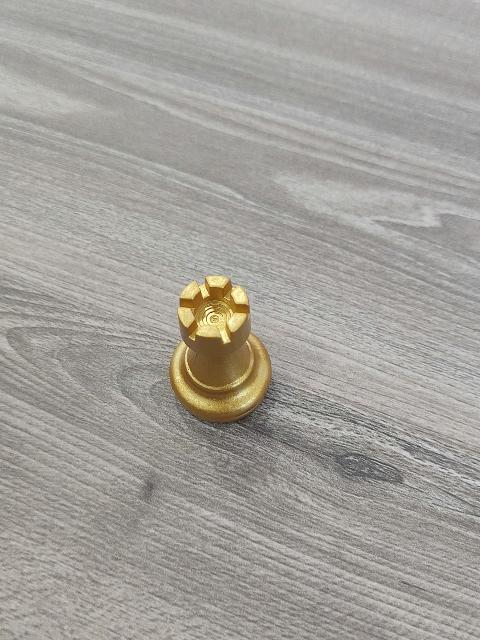black_rook: (163, 272, 280, 425)
